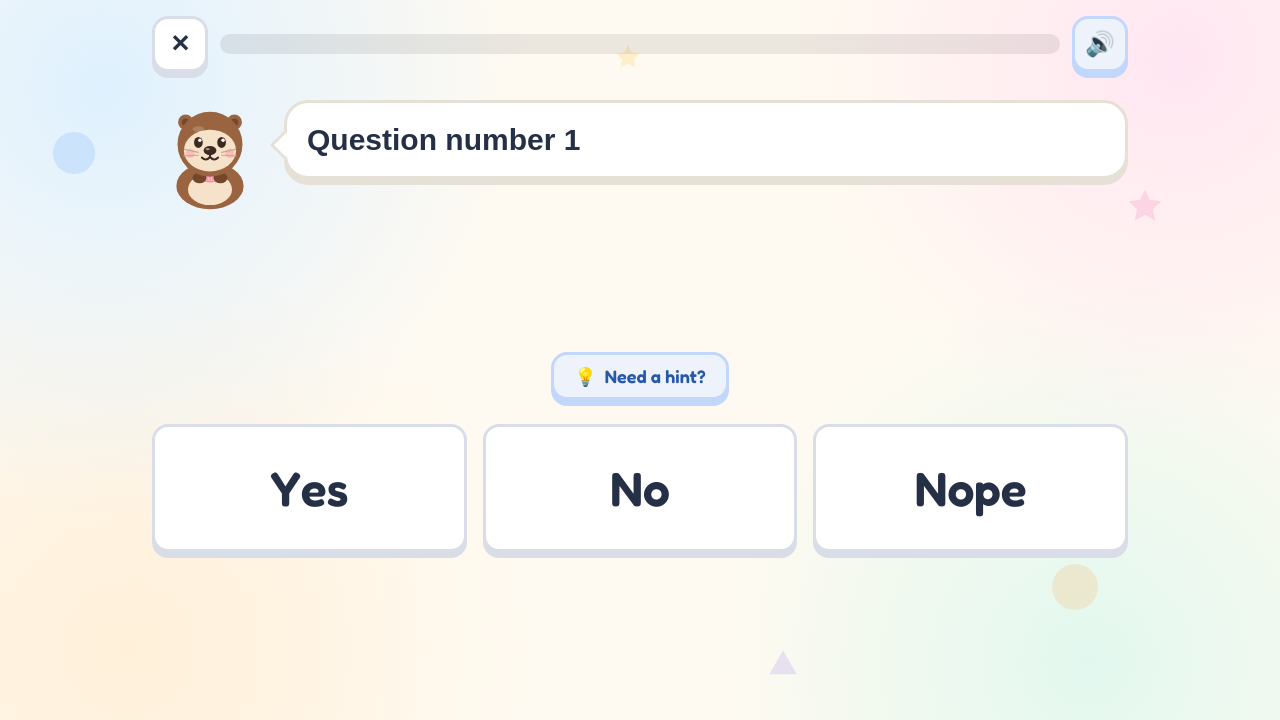
Scenario: Session answer flow › reveals the answer after a second miss
Click the button "No".
click(640, 488)  # box [483,424,797,552]
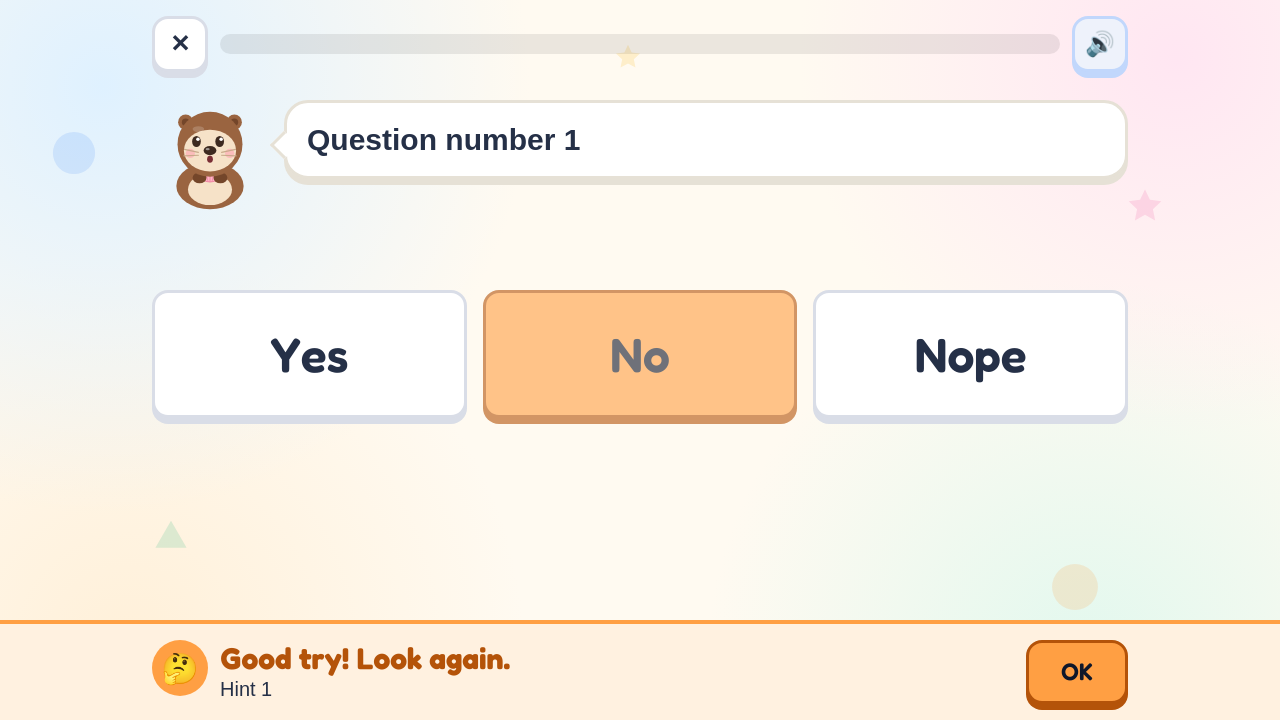
Click the button "OK".
click(1077, 672)  # box [1026,640,1128,704]
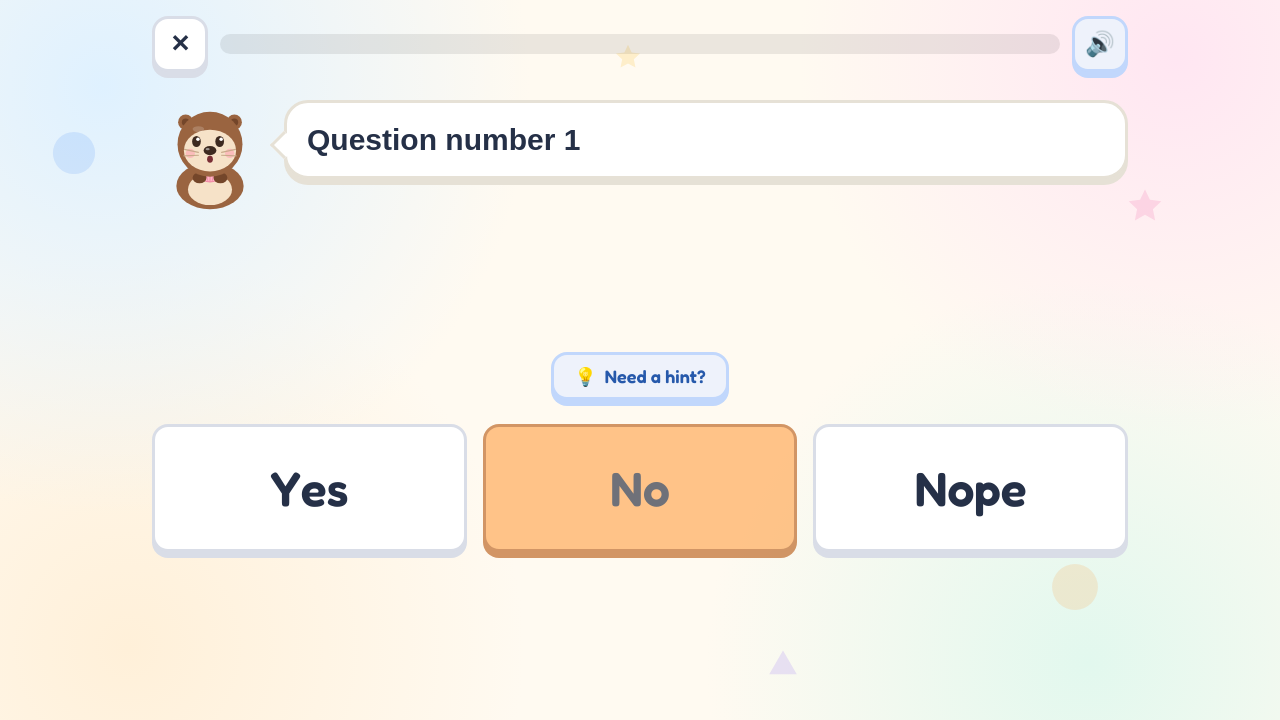
Click the button "Nope".
click(971, 488)  # box [813,424,1128,552]
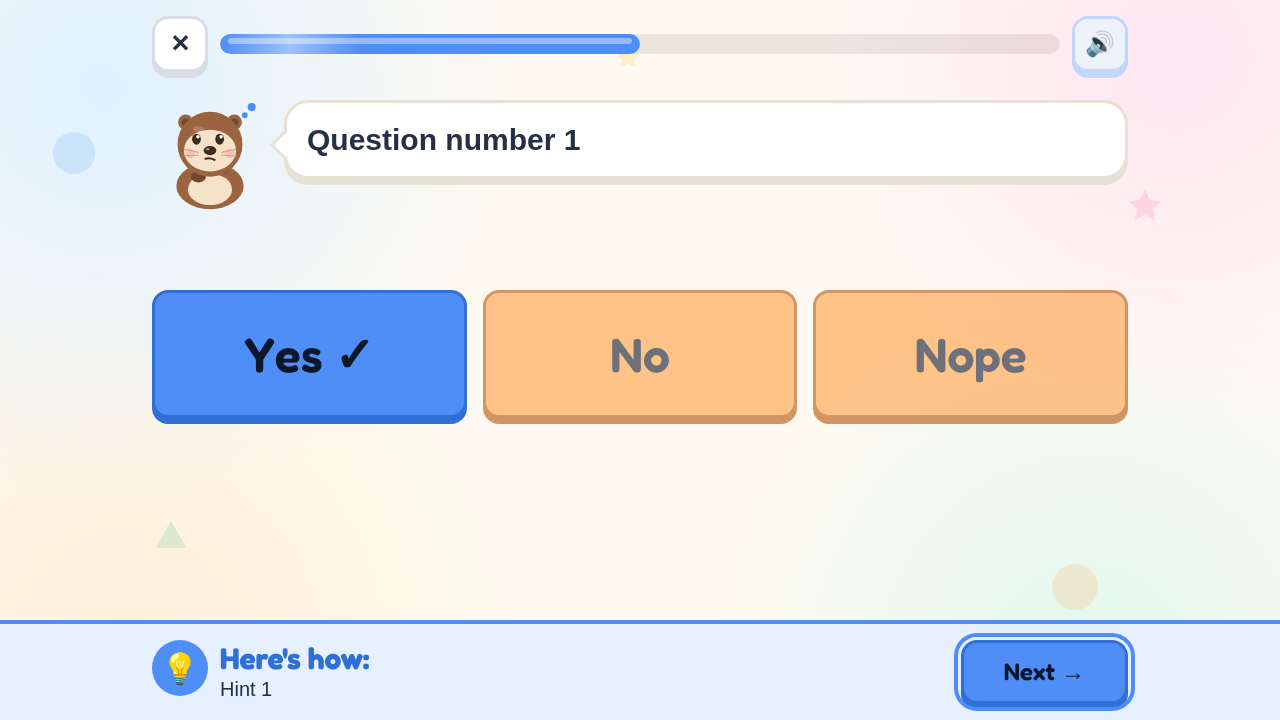
expect the text "Here's how:" is shown: met, box [220,640,369,676]
expect the text "Hint 1" is shown: met, box [220,678,272,700]
